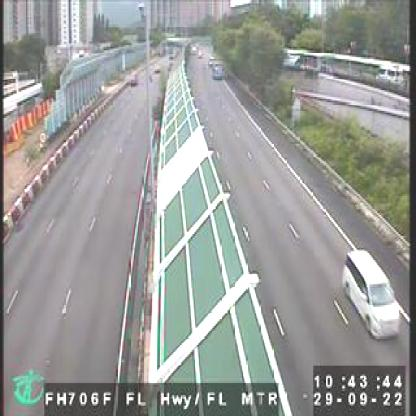Car: (338, 246, 400, 338), (208, 62, 226, 78)
